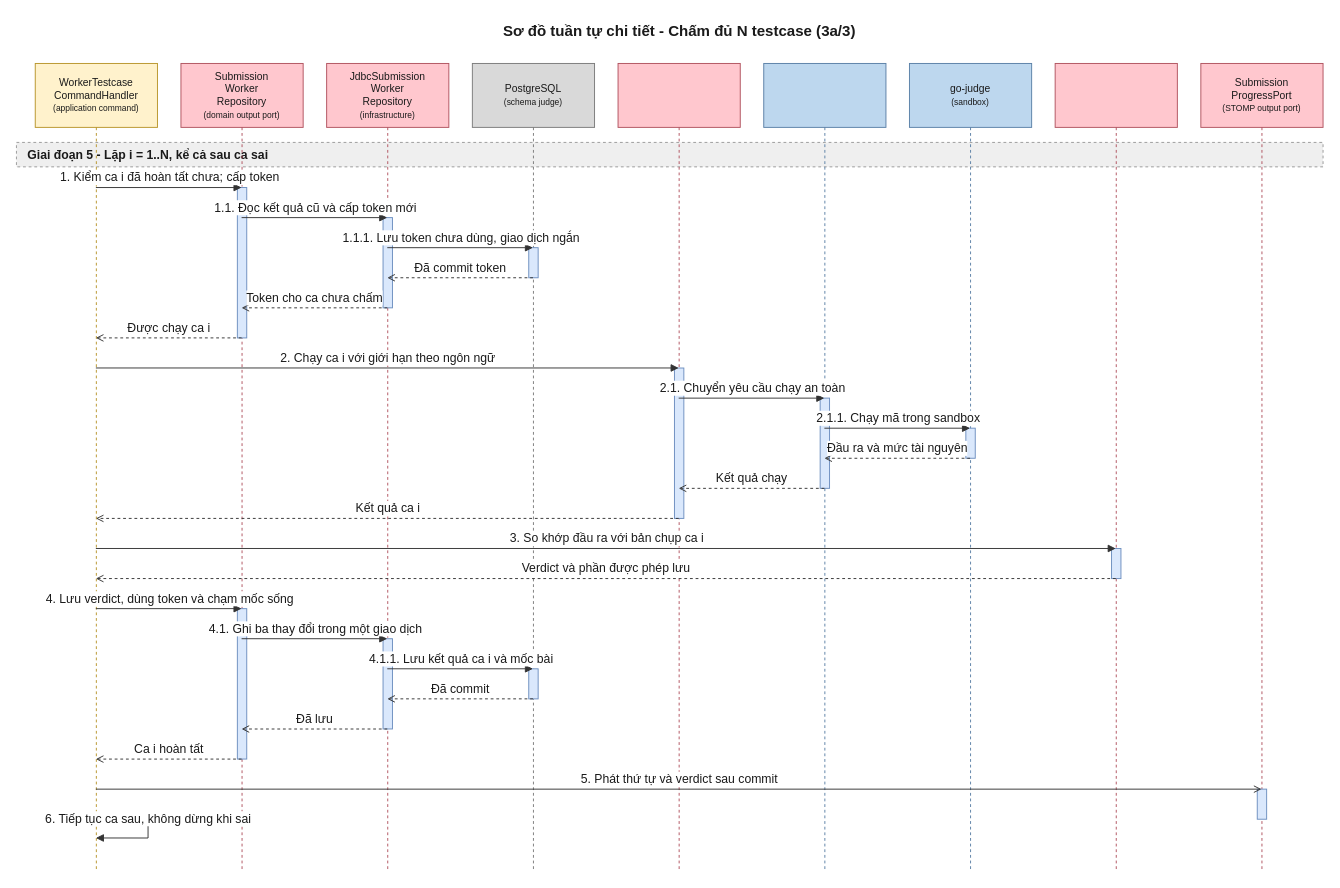
Some shapes in this 1340 by 888 pixel diagram are drawn without their labels. The shapes that lost their labels are listed below. From the top down, each one's box as (x1, y1, x2, y2) in pixels, then its label:
(617, 63, 740, 872): ExecutionPort (output port)
(763, 63, 886, 872): GoJudgeAdapter (infrastructure)
(1054, 63, 1177, 872): MatchPort (port F4 → F3)
